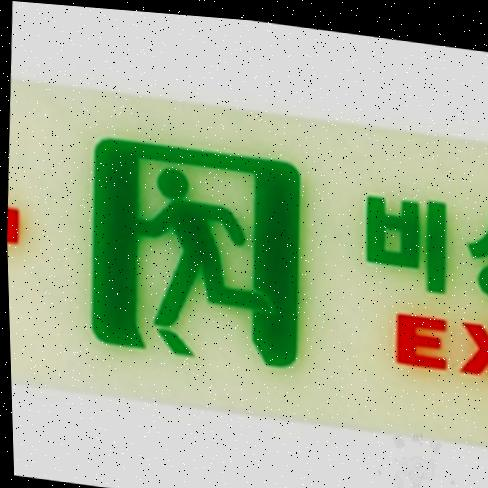emergency_exit: (5, 2, 487, 486), (90, 136, 302, 368)
